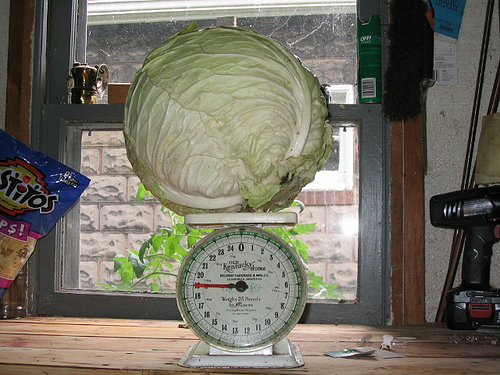cabbage: (124, 25, 333, 213)
